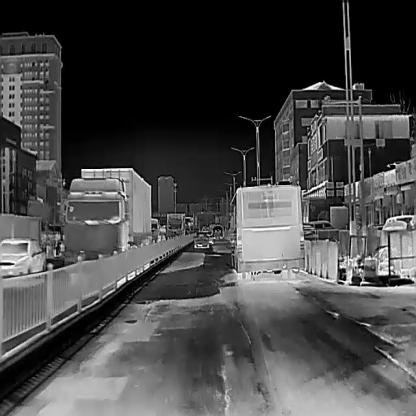bus: (230, 183, 305, 280)
car: (0, 237, 44, 277), (306, 220, 340, 240), (382, 214, 416, 230), (193, 230, 210, 247), (302, 224, 317, 240), (212, 224, 223, 238)
truck: (64, 165, 150, 260), (166, 211, 184, 234), (148, 217, 159, 241)
